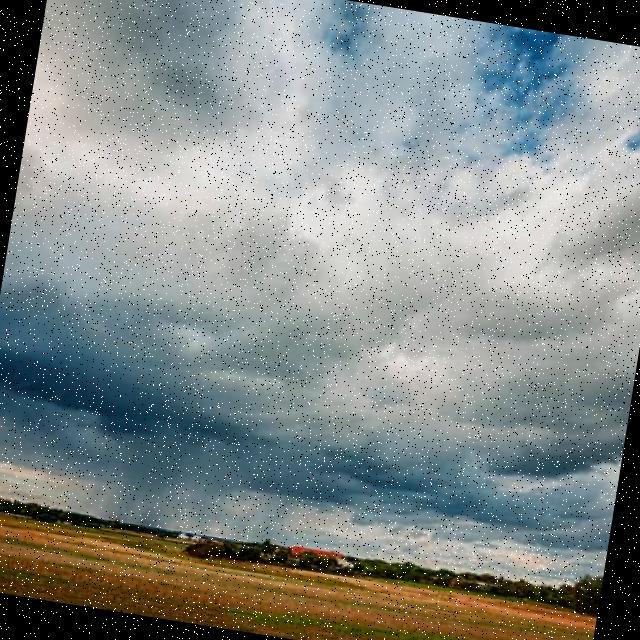Ns: (1, 1, 640, 542)
